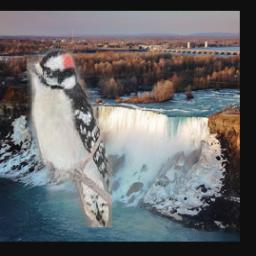Woodpecker: (27, 49, 112, 227)
